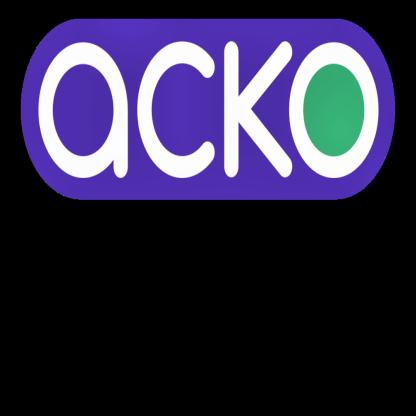ACKO: (20, 18, 398, 199)
